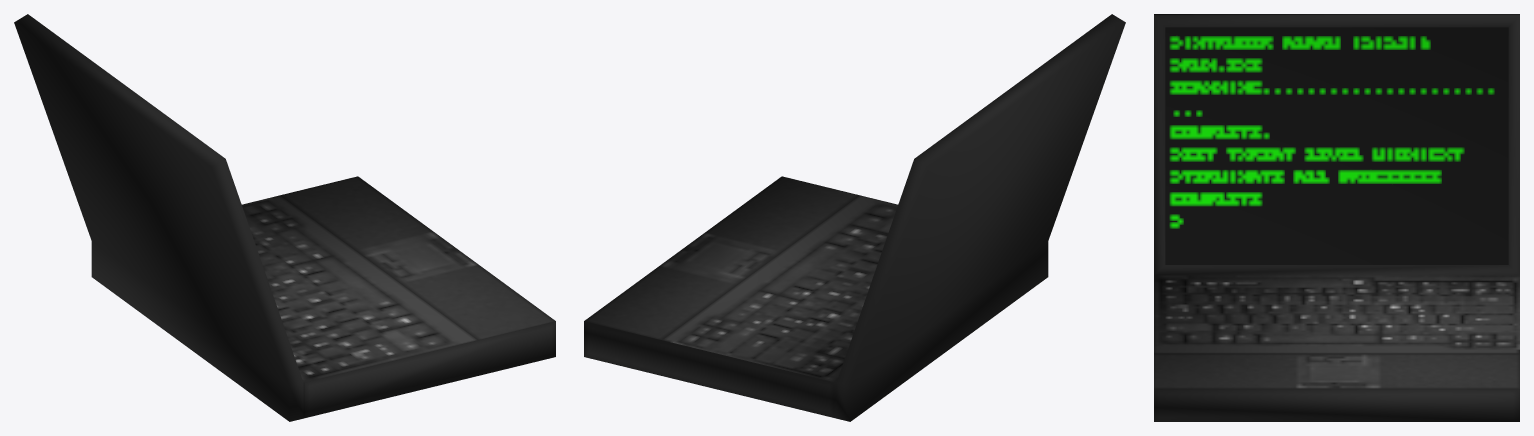
File: laptop.obj
3 views of the same model, side by side, from view 1: azimuth 30°, elevation 25°; view 2: azimuth 150°, elevation 25°; view 3: azimuth 270°, elevation 25° (orthographic). The views are drawn at different scales.
Parts seen in each view (by area): view 1: Cube.001; view 2: Cube.001; view 3: Cube.001.
Boxes of the visible parts, x1,y1,x2,y2 form: Cube.001: (14,14,555,421); Cube.001: (584,14,1125,421); Cube.001: (1154,14,1519,421).
Bounding box in the file's own units: 0.0258 × 0.02 × 0.0257.
1 material, 1 textured.
